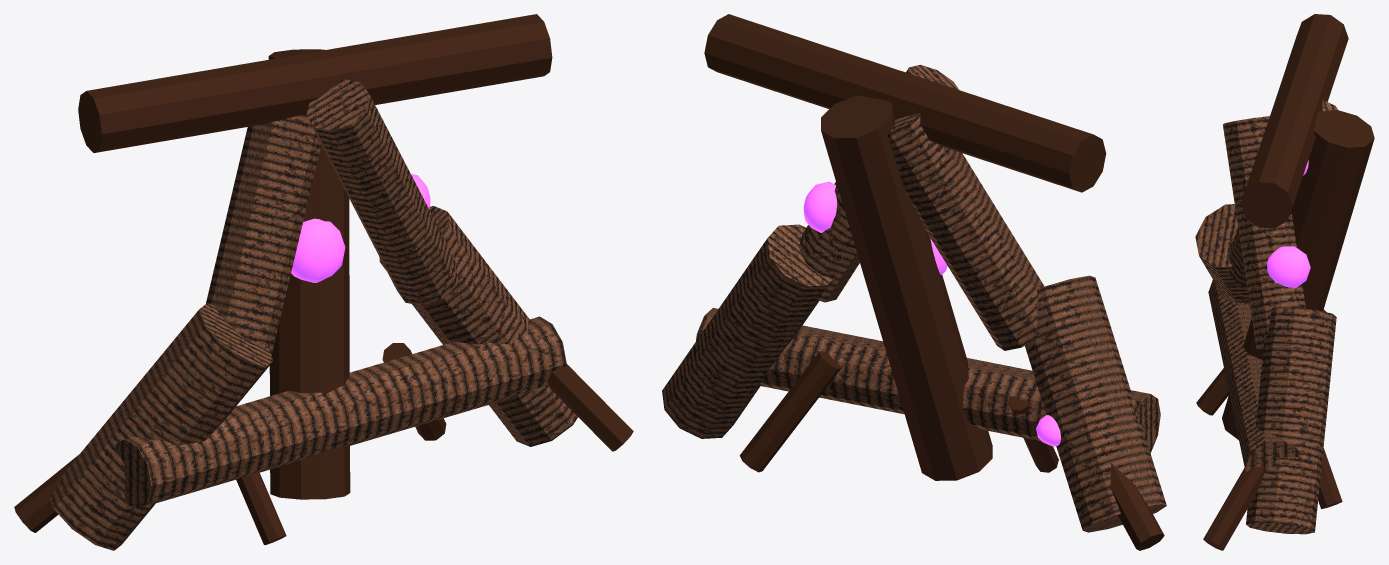
The model's file is raiz_tapon.glb.
The picture shows the model from 3 angles, left to right: view 1: azimuth 30°, elevation 25°; view 2: azimuth 150°, elevation 25°; view 3: azimuth 270°, elevation 25°; orthographic projection. The views are drawn at different scales.
Visible parts, largest first — view 1: Cylinder.005, Cylinder.006, Cylinder, Cylinder.001, Cylinder.003, Cylinder.004, Cylinder.002, Cylinder.008, Icosphere, Cylinder.009, Cylinder.007, Cylinder.010; view 2: Cylinder.004, Cylinder.006, Cylinder, Cylinder.002, Cylinder.001, Cylinder.005, Cylinder.010, Cylinder.003, Cylinder.007, Icosphere.002, Cylinder.009; view 3: Cylinder.002, Cylinder.006, Cylinder.004, Cylinder.003, Cylinder.005, Cylinder, Cylinder.008, Icosphere.002, Cylinder.009, Cylinder.010, Cylinder.001.
Boxes of the visible parts, x1,y1,x2,y2 form: Cylinder.005: [115, 316, 566, 508]; Cylinder.006: [78, 14, 552, 152]; Cylinder: [50, 303, 273, 550]; Cylinder.001: [206, 114, 321, 355]; Cylinder.003: [306, 79, 458, 305]; Cylinder.004: [268, 49, 350, 499]; Cylinder.002: [379, 206, 577, 446]; Cylinder.008: [528, 325, 633, 451]; Icosphere: [291, 218, 345, 282]; Cylinder.009: [236, 472, 286, 545]; Cylinder.007: [14, 454, 79, 532]; Cylinder.010: [382, 343, 446, 440]; Cylinder.004: [821, 95, 992, 480]; Cylinder.006: [704, 14, 1106, 192]; Cylinder: [1025, 275, 1166, 532]; Cylinder.002: [662, 224, 833, 438]; Cylinder.001: [887, 113, 1044, 350]; Cylinder.005: [696, 308, 1160, 452]; Cylinder.010: [739, 351, 841, 472]; Cylinder.003: [799, 64, 958, 302]; Cylinder.007: [1110, 463, 1164, 550]; Icosphere.002: [803, 181, 837, 232]; Cylinder.009: [1008, 396, 1058, 472]; Cylinder.002: [1246, 307, 1336, 534]; Cylinder.006: [1241, 14, 1348, 228]; Cylinder.004: [1222, 110, 1374, 439]; Cylinder.003: [1223, 116, 1305, 348]; Cylinder.005: [1208, 280, 1300, 471]; Cylinder: [1195, 204, 1249, 303]; Cylinder.008: [1203, 434, 1272, 550]; Icosphere.002: [1267, 246, 1310, 287]; Cylinder.009: [1196, 368, 1229, 415]; Cylinder.010: [1318, 448, 1342, 509]; Cylinder.001: [1229, 100, 1338, 287].
Bounding box in the file's own units: 3.03 × 2.25 × 1.03.
3 materials, 1 textured.
